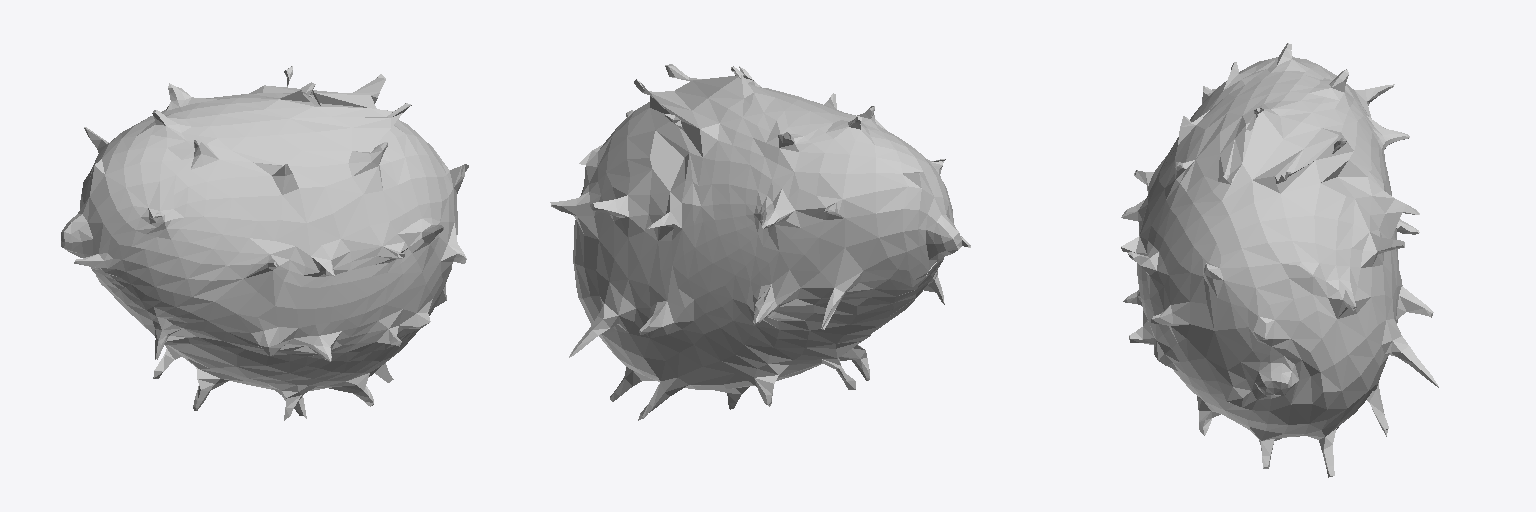
Rendered from Kind of Fruit.OBJ.
3 views of the same model, side by side, from view 1: azimuth 30°, elevation 25°; view 2: azimuth 150°, elevation 25°; view 3: azimuth 270°, elevation 25° (orthographic).
Parts seen in each view (by area): view 1: Group28934; view 2: Group28934; view 3: Group28934.
Part boxes in pixels (bbox=[...]): Group28934: bbox=[61, 66, 468, 420]; Group28934: bbox=[550, 64, 970, 420]; Group28934: bbox=[1121, 43, 1438, 477].
Bounding box in the file's own units: 3.17 × 2.67 × 2.27.